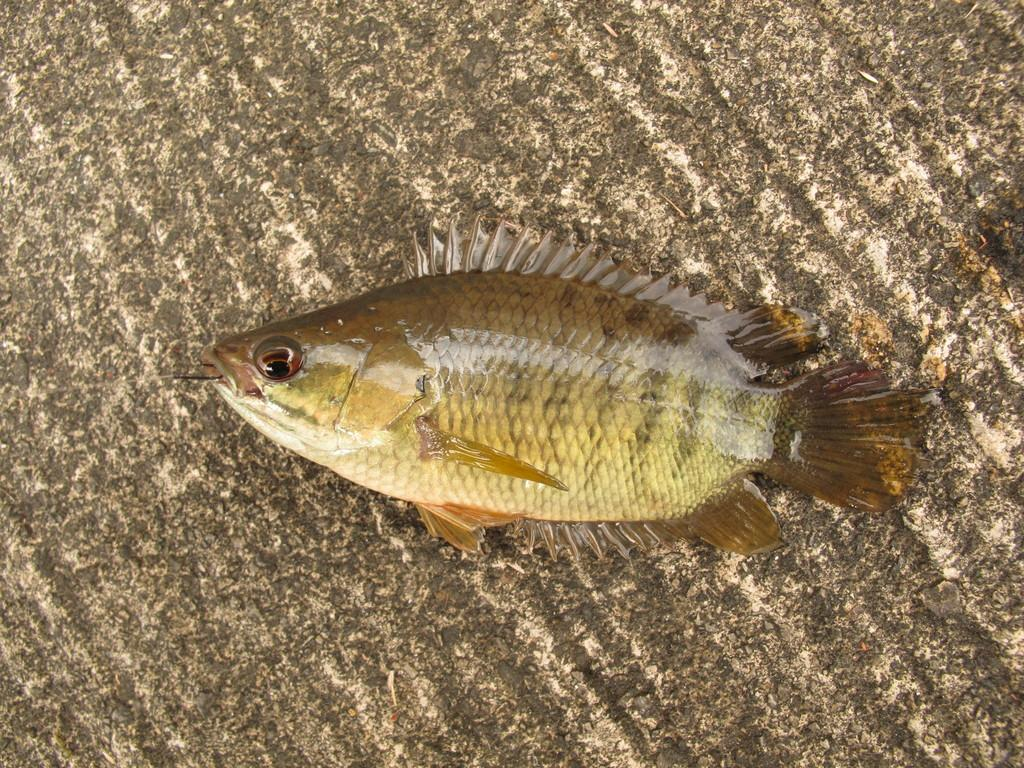Climbing Perch: (207, 218, 922, 562)
